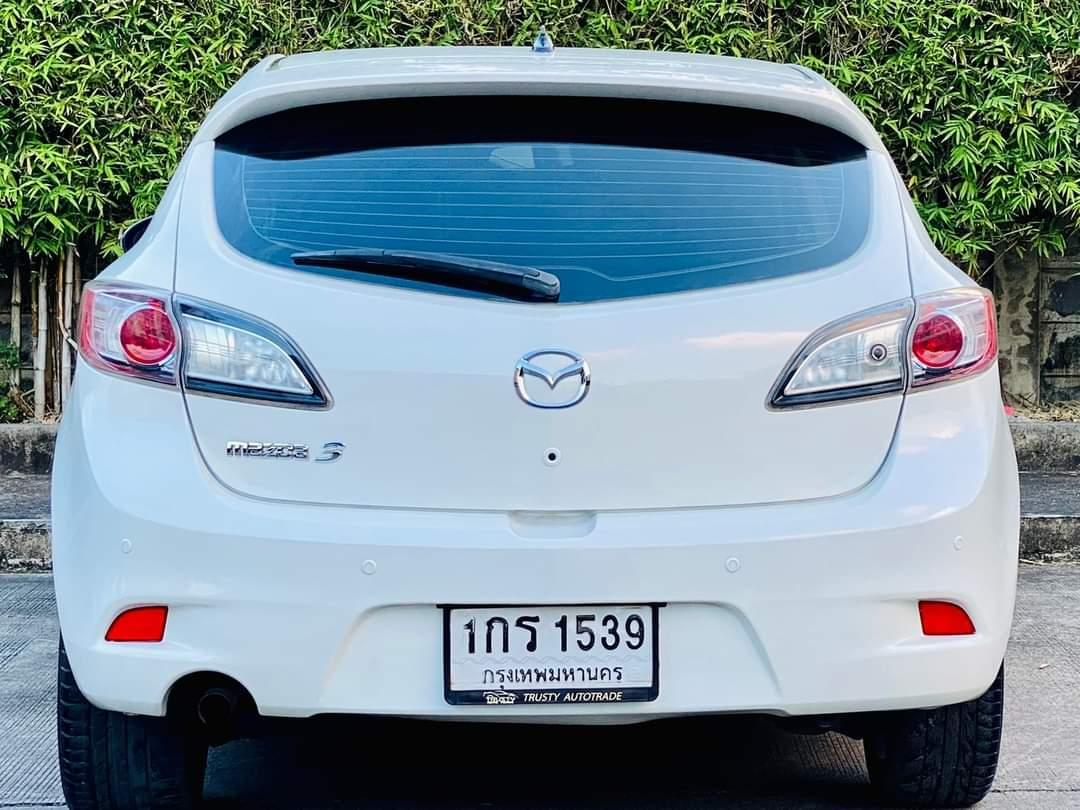license-plate: (442, 602, 664, 709)
